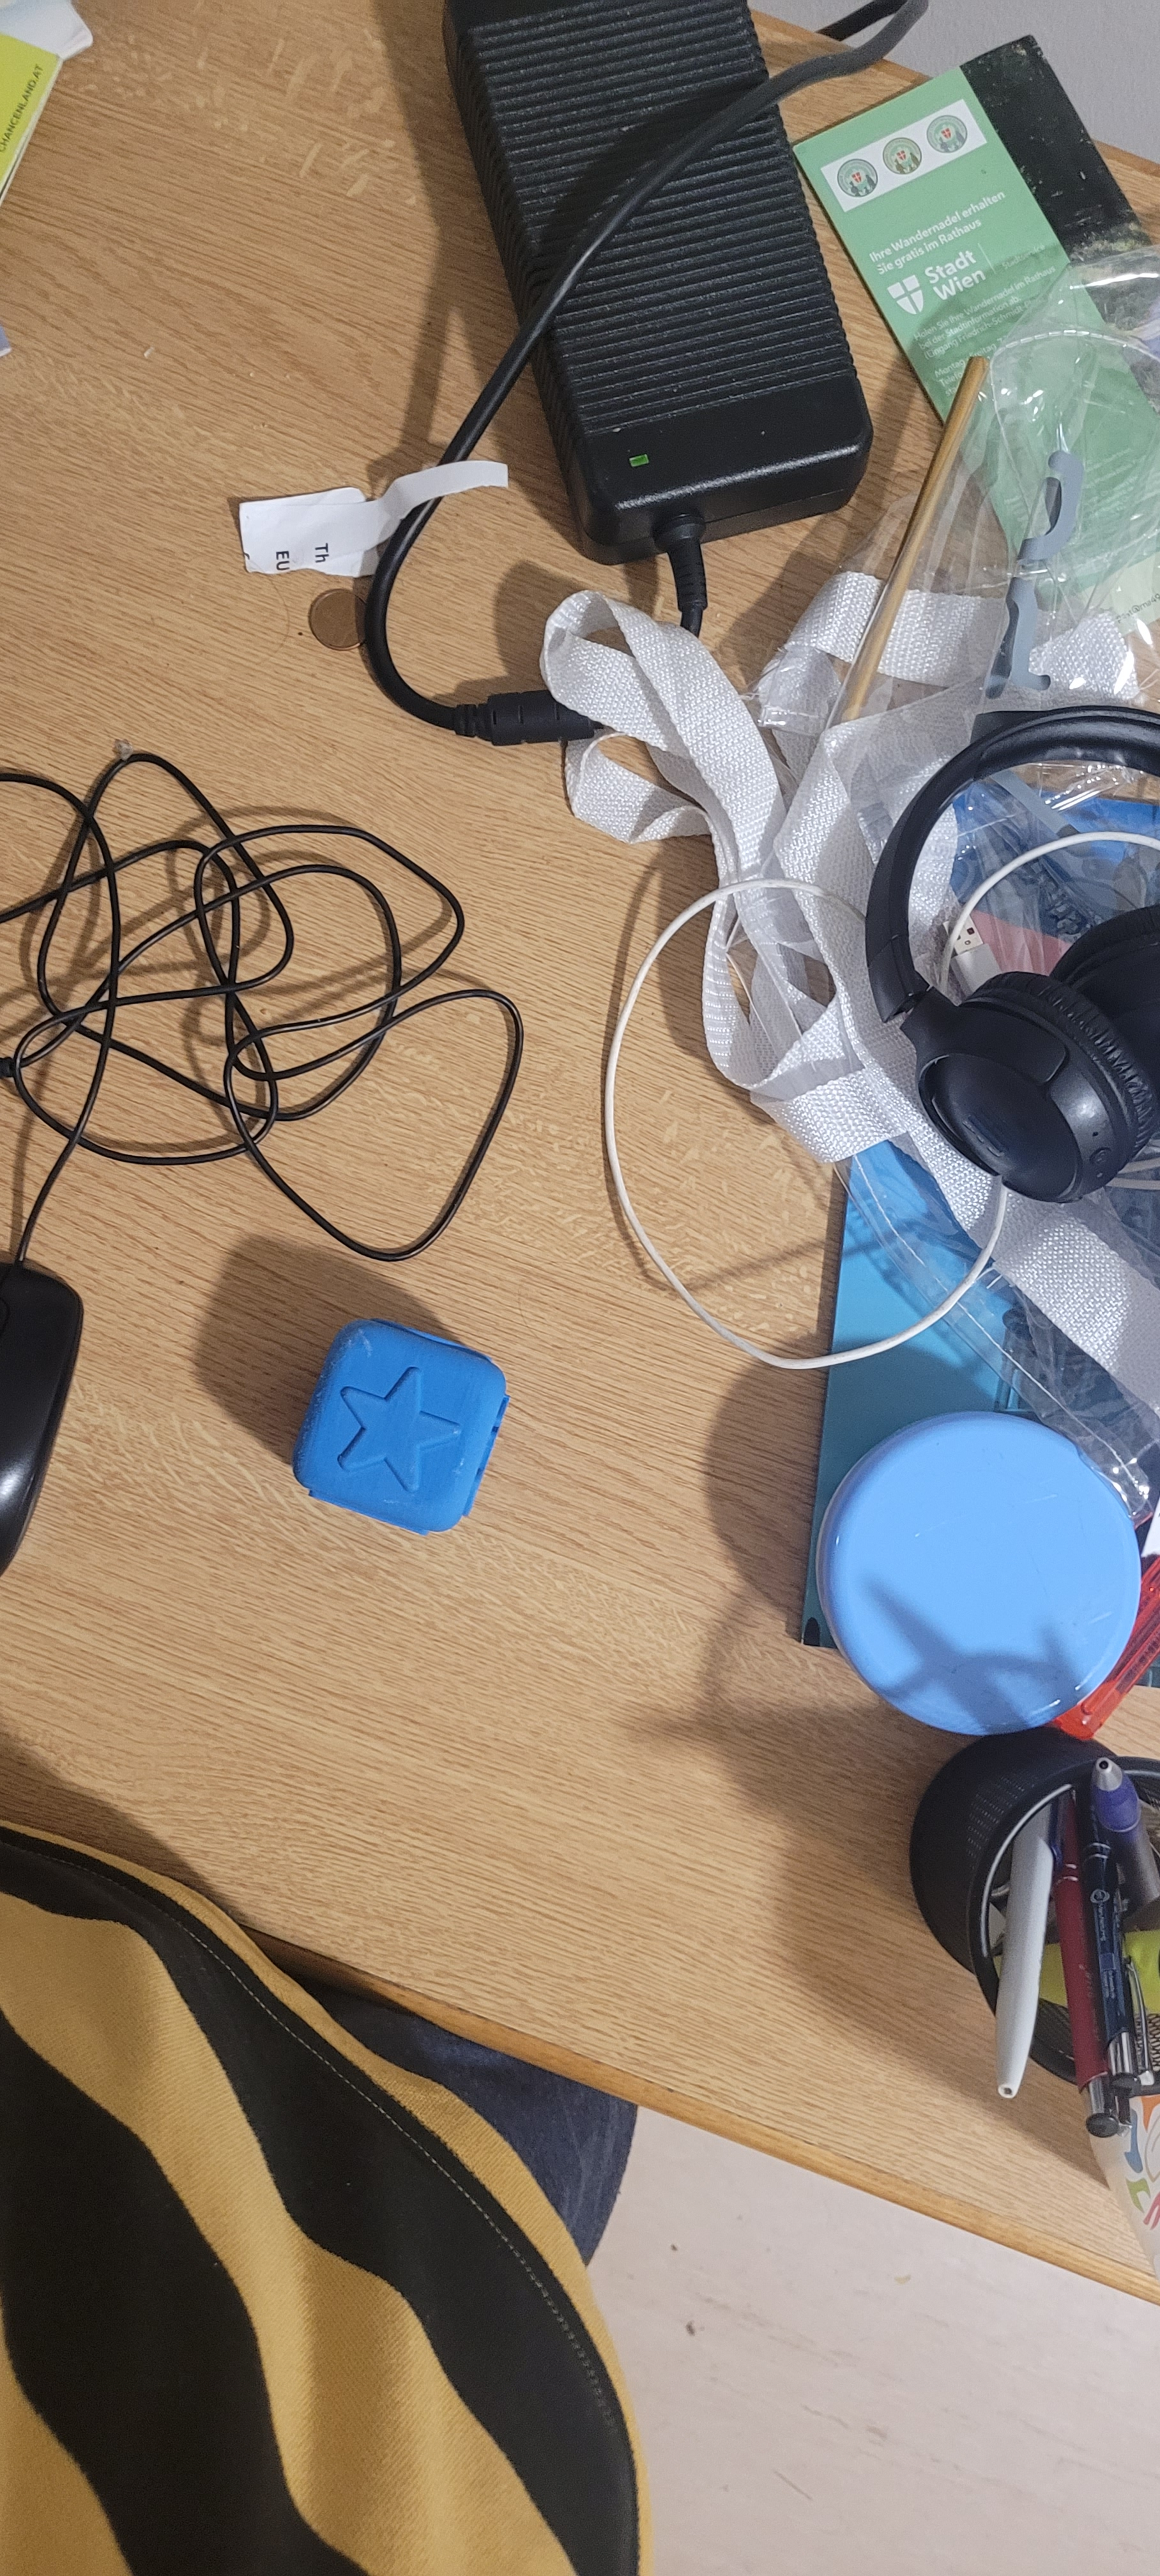Star: (327, 1314, 509, 1487)
